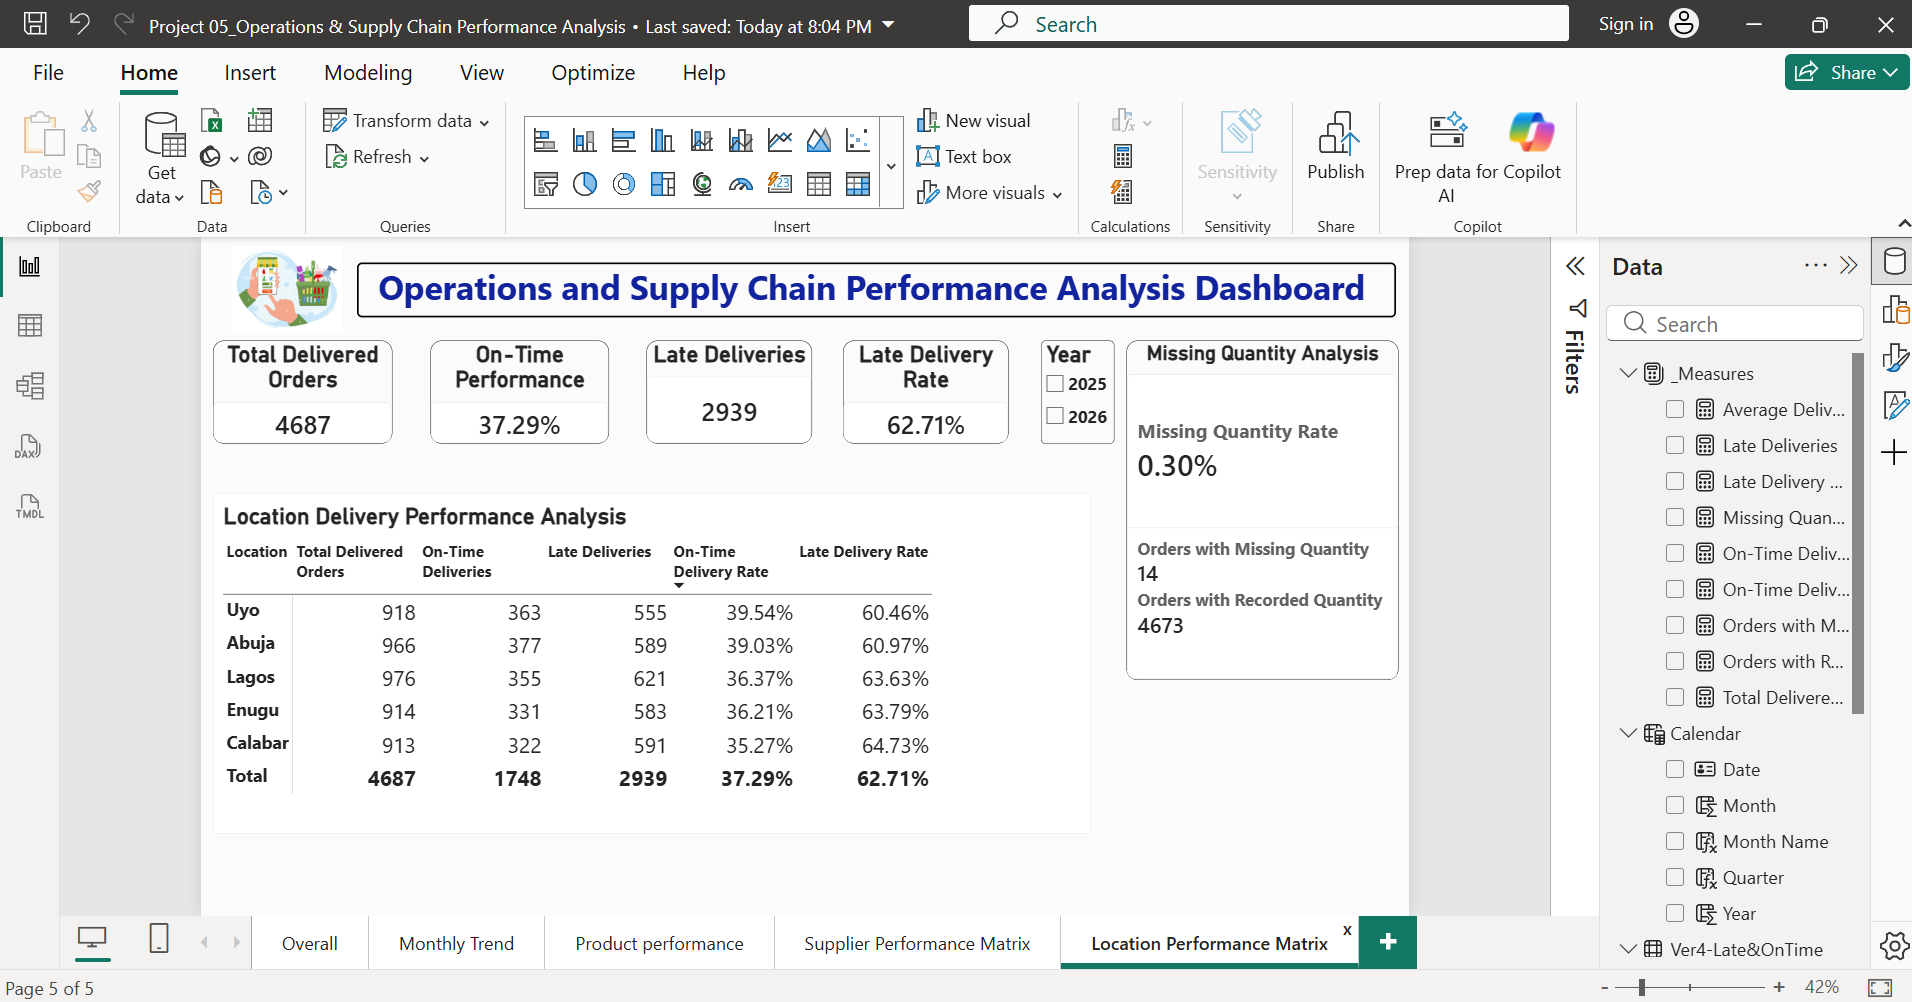

The page's visual inventory and layout, read from the dashboard file:
{"tool":"powerbi","page":{"name":"Location Performance Matrix","canvas":[1920,1080],"ordinal":4},"visuals":[{"type":"cardVisual","title":"Total Delivered Orders","fields":{"Data":["_Measures.Total Delivered Orders"]},"box":[18.8,164.1,285.4,164.1],"z":0},{"type":"cardVisual","title":"On-Time Performance","fields":{"Data":["_Measures.On-Time Delivery Rate"]},"box":[364.1,164.6,283.7,164.1],"z":1000},{"type":"cardVisual","title":"Late Deliveries","fields":{"Data":["_Measures.Late Deliveries"]},"box":[707.7,164.6,263.2,164.1],"z":2000},{"type":"cardVisual","title":"Missing Quantity Analysis","fields":{"Data":["_Measures.Missing Quantity Rate"]},"box":[1473,164.1,432.3,540],"z":3000},{"type":"slicer","fields":{"Values":["Calendar.Year"]},"box":[1336.1,164.6,116.9,164.6],"z":4000},{"type":"textbox","box":[247.8,41,1652.5,87.2],"z":5000},{"type":"image","box":[25.6,13.7,222.2,136.7],"z":6000},{"type":"cardVisual","title":"Late Delivery Rate","fields":{"Data":["_Measures.Late Delivery Rate"]},"box":[1021.9,164.1,263.2,164.1],"z":7000},{"type":"pivotTable","title":"Location Delivery Performance Analysis","fields":{"Rows":["Ver4-Late&OnTime.Location"],"Values":["_Measures.Total Delivered Orders","_Measures.On-Time Deliveries","_Measures.Late Deliveries","_Measures.On-Time Delivery Rate","_Measures.Late Delivery Rate"]},"box":[19.1,408,1395.8,541.6],"z":8000}]}

Visuals, with their boxes on the page's 1920x1080 design canvas (x1, y1, x2, y2). These are canvas units, not pixel positions in the 1912x1002 screenshot, which may show the page scaled, cropped or inside an application window:
"Total Delivered Orders" cardVisual: select_region(19, 164, 304, 328)
"On-Time Performance" cardVisual: select_region(364, 165, 648, 329)
"Late Deliveries" cardVisual: select_region(708, 165, 971, 329)
"Missing Quantity Analysis" cardVisual: select_region(1473, 164, 1905, 704)
slicer - Calendar.Year: select_region(1336, 165, 1453, 329)
textbox: select_region(248, 41, 1900, 128)
image: select_region(26, 14, 248, 150)
"Late Delivery Rate" cardVisual: select_region(1022, 164, 1285, 328)
"Location Delivery Performance Analysis" pivotTable: select_region(19, 408, 1415, 950)
